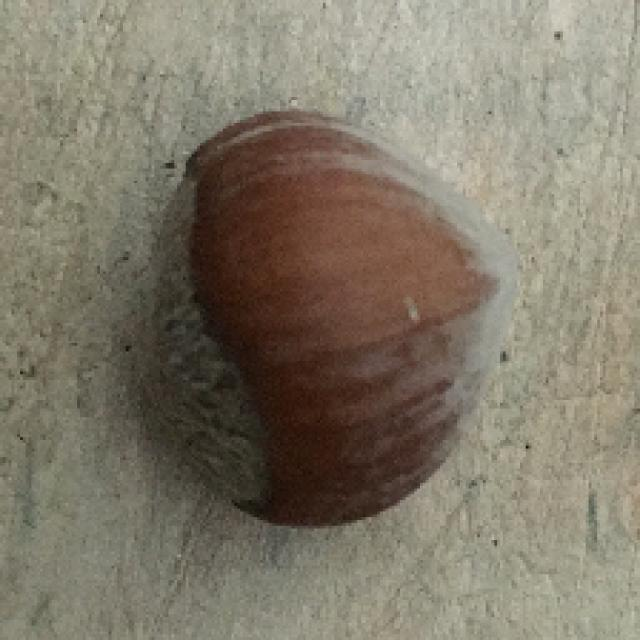QualityHazelnut: (138, 108, 530, 535)
